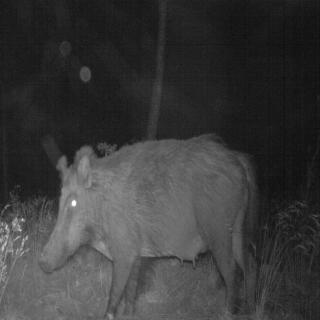Pig: (35, 106, 308, 309)
